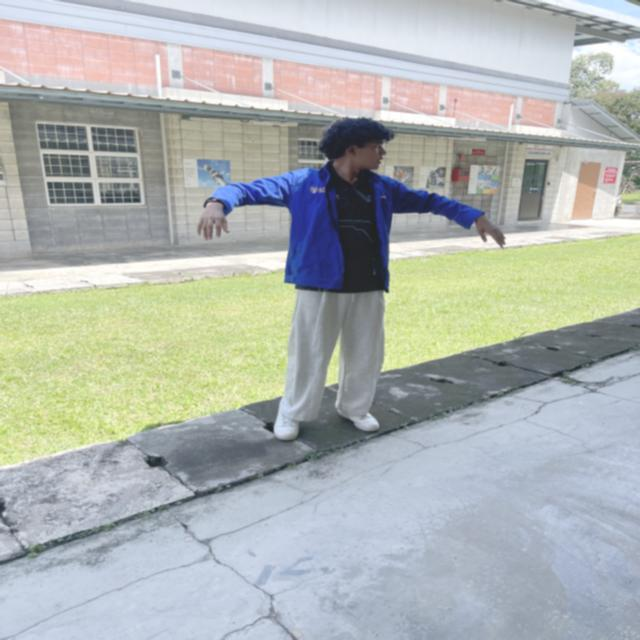person_with_labcoat: (197, 117, 505, 440)
